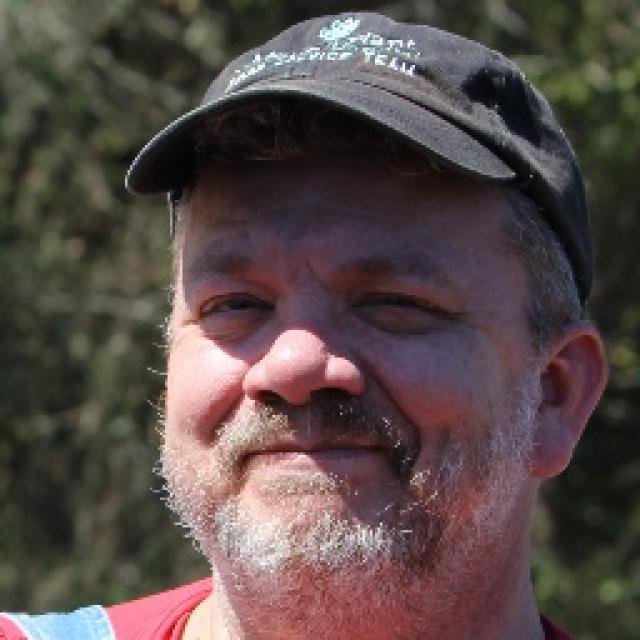earlobe: (522, 317, 608, 481)
